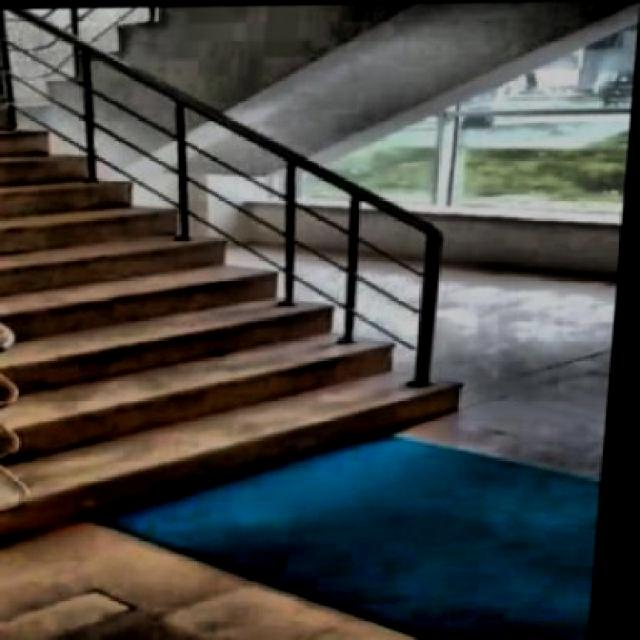stair: (1, 62, 542, 550)
